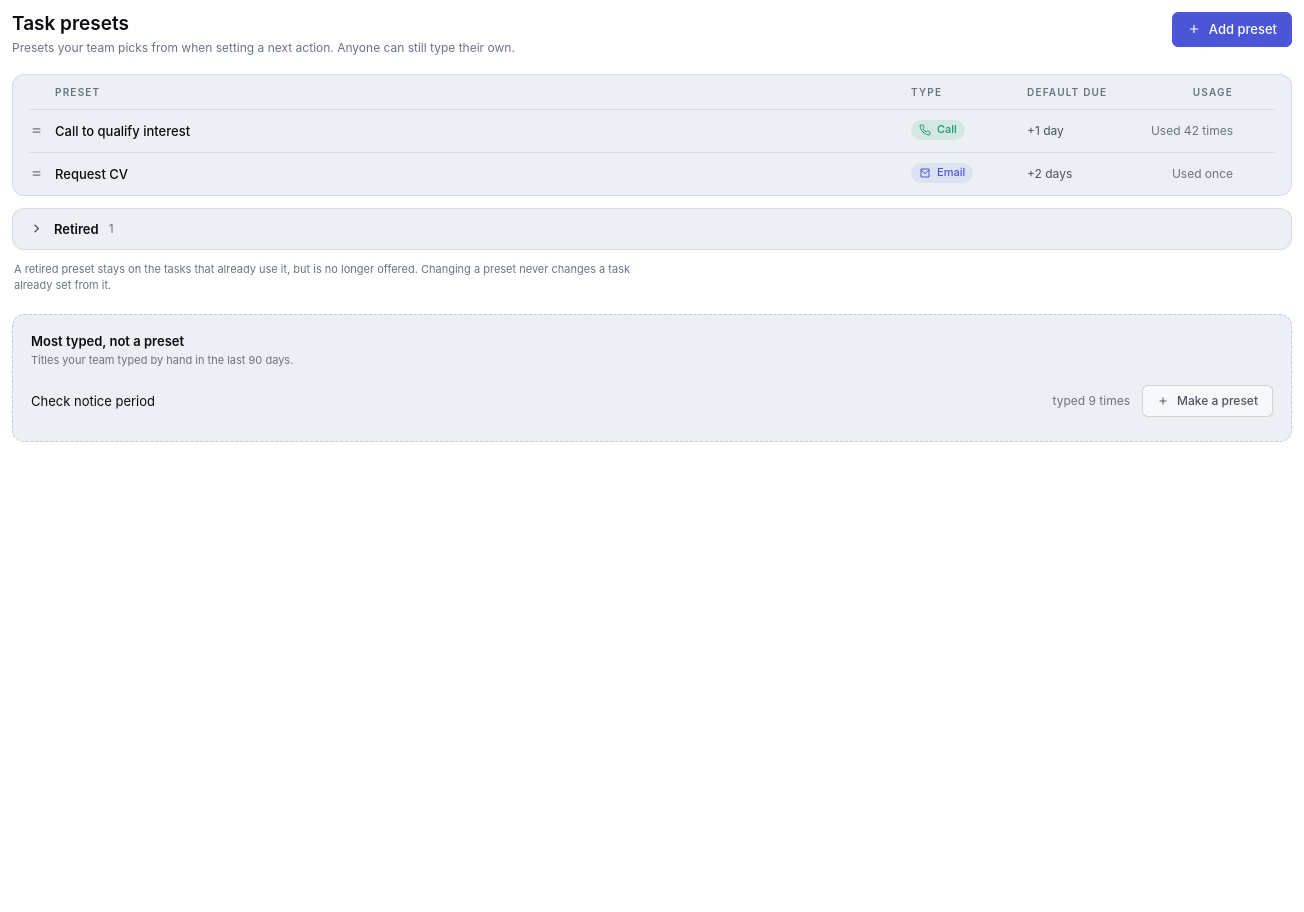
Scenario: SettingsTaskPresetsPage › says when the team already has a preset by that name
Check: the list item "Request CV" is shown, box [29,163,1275,185]
Click the button "Add preset" at coordinates (1232, 29), box [1172,12,1292,47]
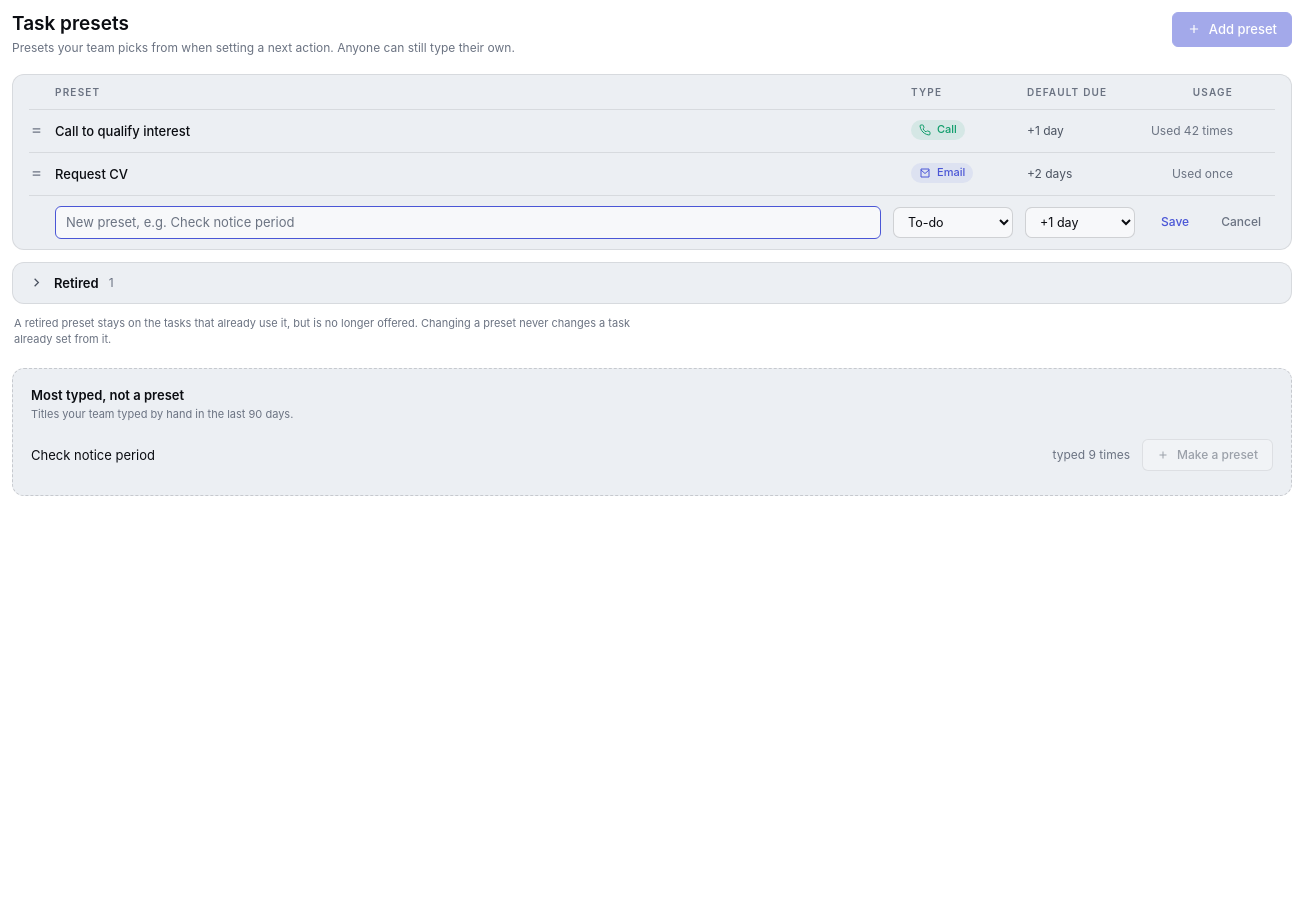
Type "Send salary survey" into the field named "Preset name" at coordinates (468, 222), box [55,206,881,239]
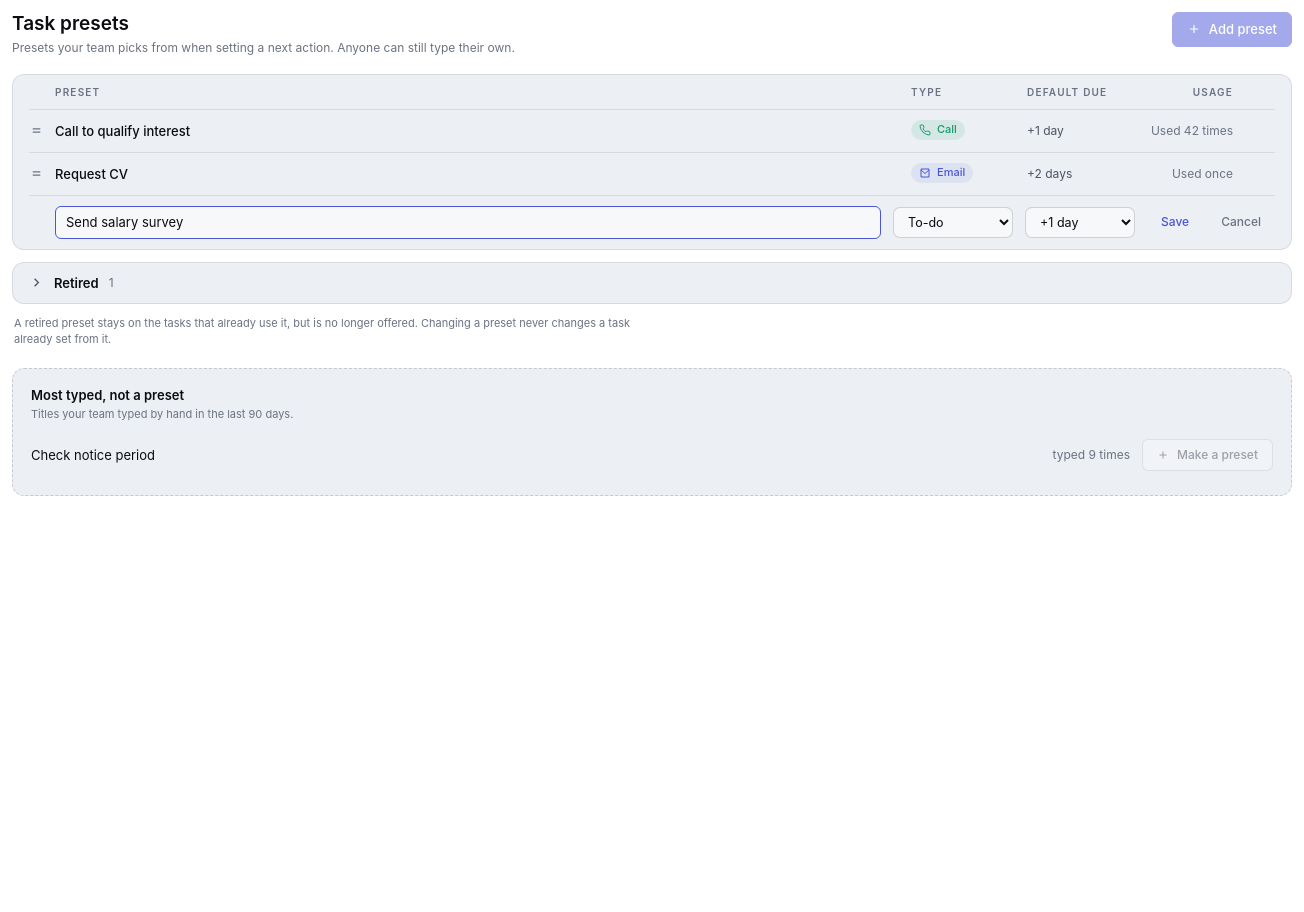
Click the button "Save" at coordinates (1175, 222), box [1147,207,1203,237]
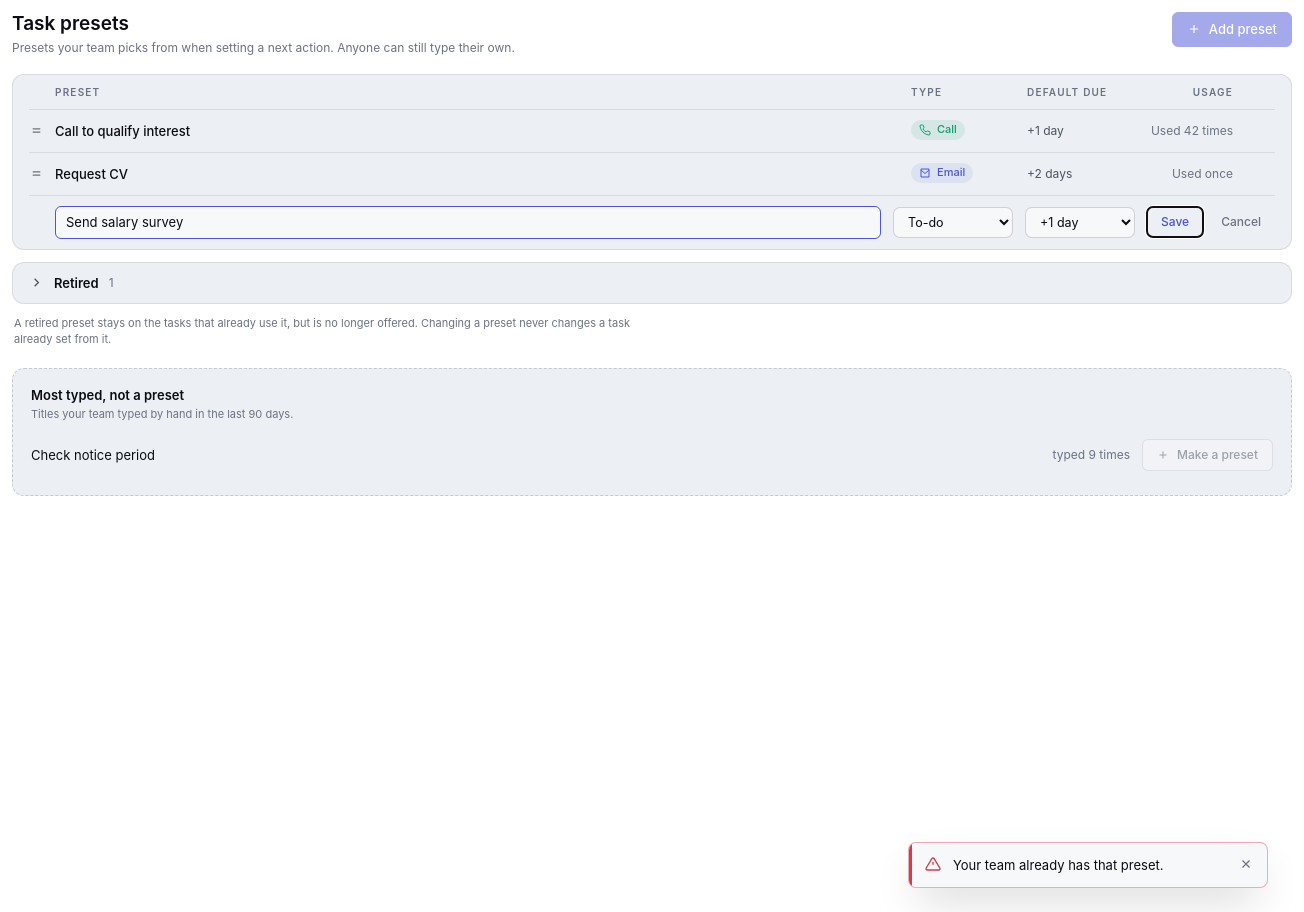
Check: the text "Your team already has that preset." is shown, box [953,857,1164,873]
